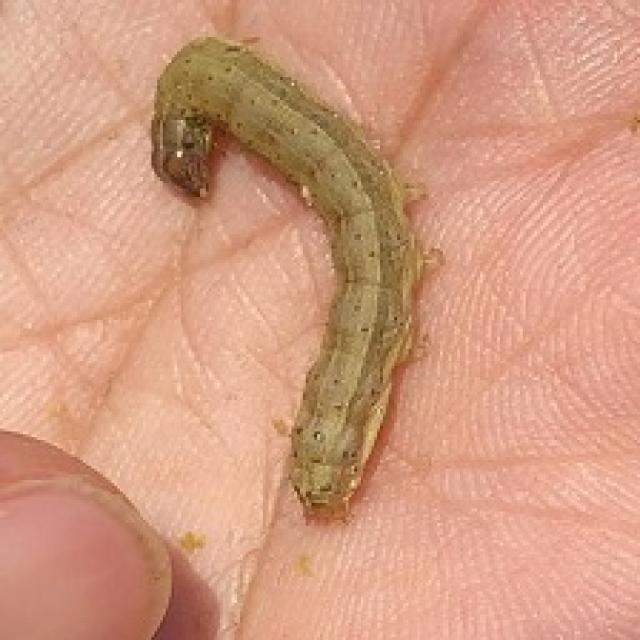Fall-armyworm: (151, 36, 434, 524)
